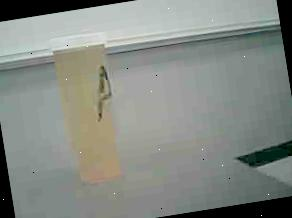Bottle A: (53, 33, 119, 184)
